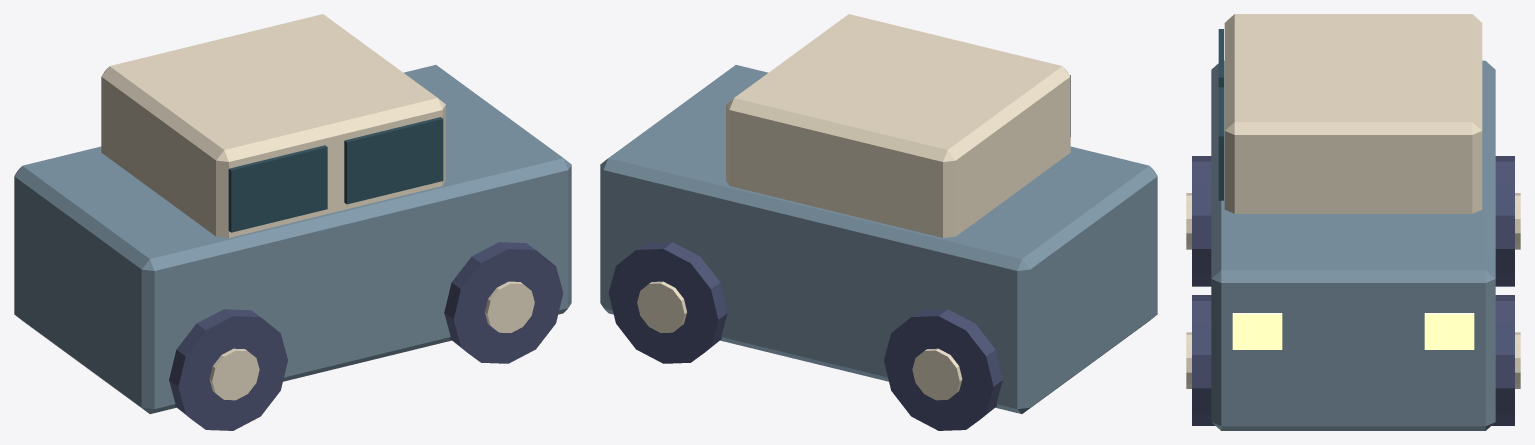
Rendered from sf3_sedan.glb.
3 views of the same model, side by side, from view 1: azimuth 30°, elevation 25°; view 2: azimuth 150°, elevation 25°; view 3: azimuth 270°, elevation 25° (orthographic). The views are drawn at different scales.
Visible parts, largest first — view 1: sf3_sedan__sf3-dusty-blue, sf3_sedan__sf3-warm-ivory, sf3_sedan__sf3-midnight-indigo, sf3_sedan__sf3-deep-glass; view 2: sf3_sedan__sf3-dusty-blue, sf3_sedan__sf3-warm-ivory, sf3_sedan__sf3-midnight-indigo; view 3: sf3_sedan__sf3-dusty-blue, sf3_sedan__sf3-warm-ivory, sf3_sedan__sf3-midnight-indigo, sf3_sedan__sf3-warm-window, sf3_sedan__sf3-deep-glass.
Boxes of the visible parts, x1,y1,x2,y2 form: sf3_sedan__sf3-dusty-blue: [14, 65, 571, 413]; sf3_sedan__sf3-warm-ivory: [101, 14, 534, 400]; sf3_sedan__sf3-midnight-indigo: [169, 242, 563, 430]; sf3_sedan__sf3-deep-glass: [228, 117, 443, 232]; sf3_sedan__sf3-dusty-blue: [600, 65, 1157, 413]; sf3_sedan__sf3-warm-ivory: [637, 14, 1070, 400]; sf3_sedan__sf3-midnight-indigo: [608, 242, 1002, 430]; sf3_sedan__sf3-dusty-blue: [1211, 60, 1495, 430]; sf3_sedan__sf3-warm-ivory: [1186, 14, 1520, 388]; sf3_sedan__sf3-midnight-indigo: [1192, 156, 1514, 425]; sf3_sedan__sf3-warm-window: [1232, 313, 1474, 349]; sf3_sedan__sf3-deep-glass: [1218, 29, 1223, 200].
Size of the model in its own units: 2.93 by 1.69 by 1.88.
